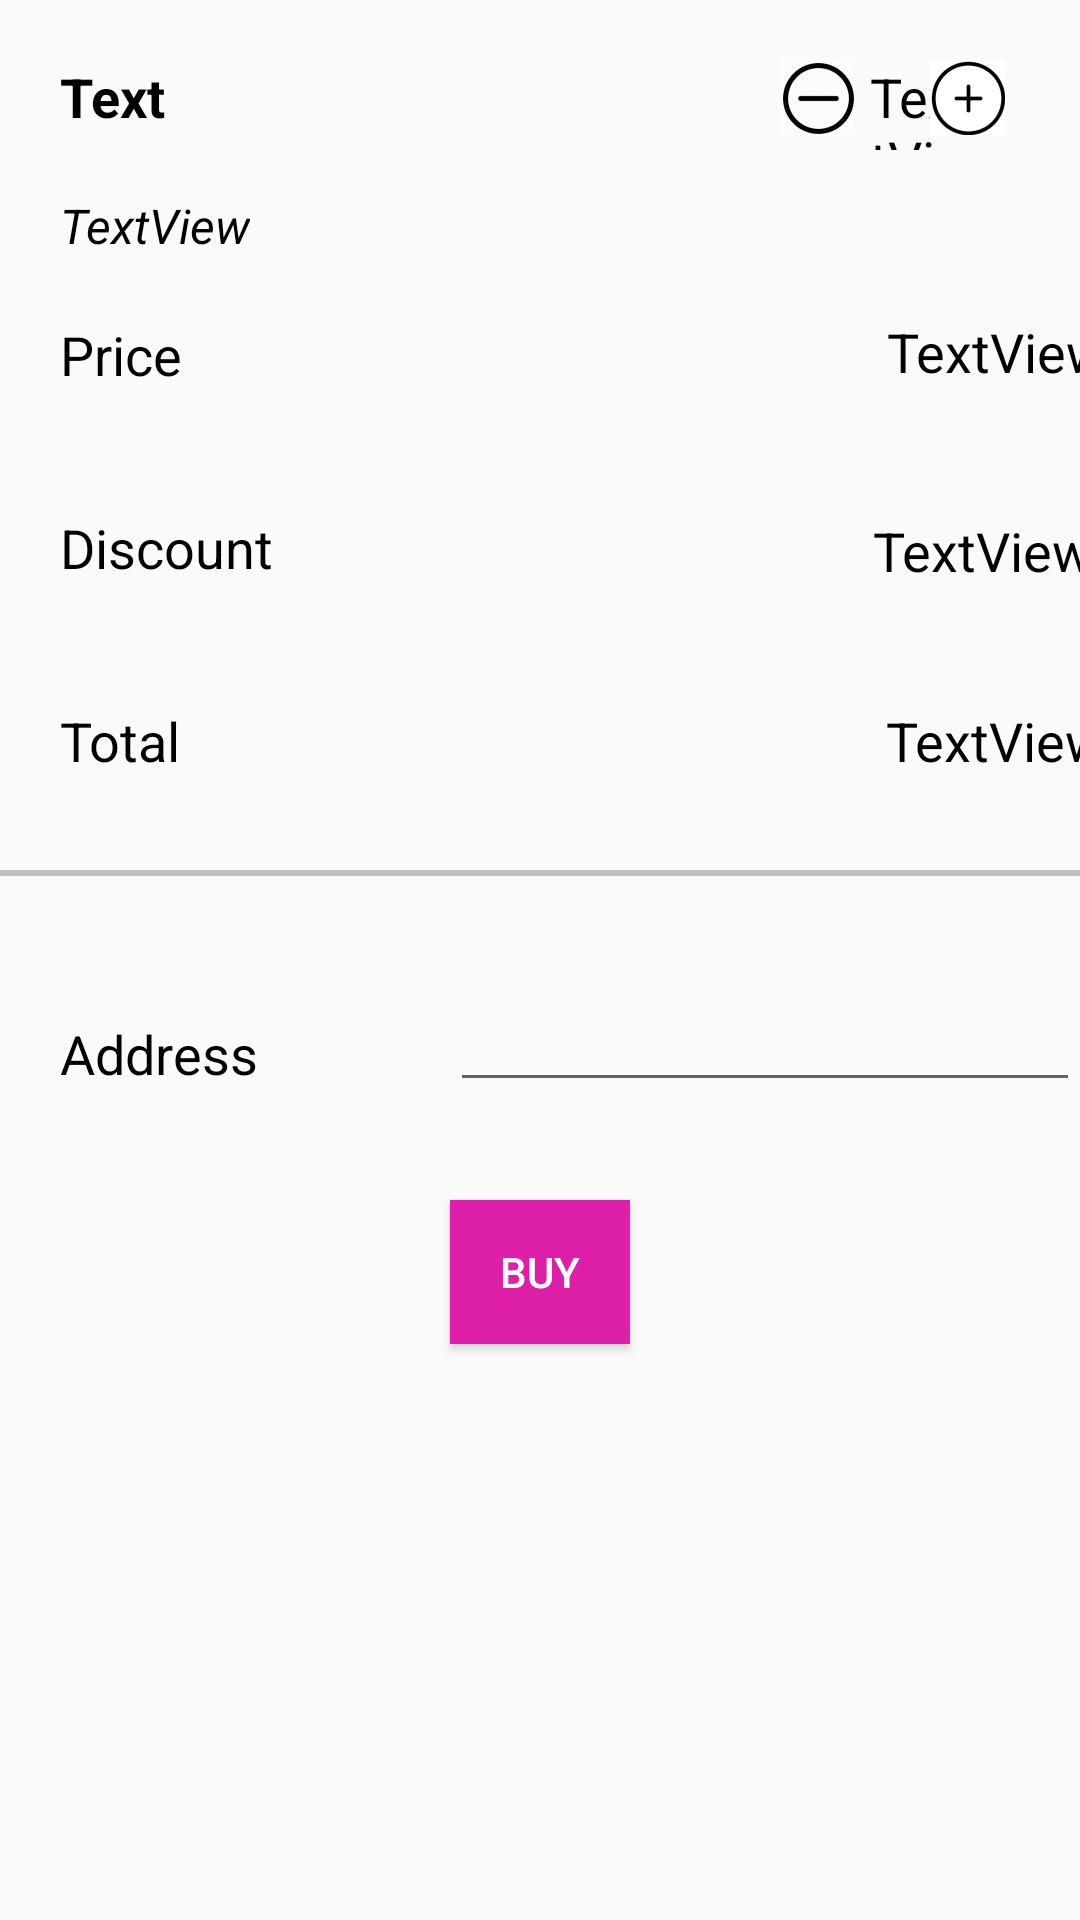

Icons on this 1080 x 1920 Android screen, each with its box as bbox=[x1, y1, x2, y2]:
minus: bbox=[783, 63, 854, 134]
plus: bbox=[931, 61, 1005, 135]
